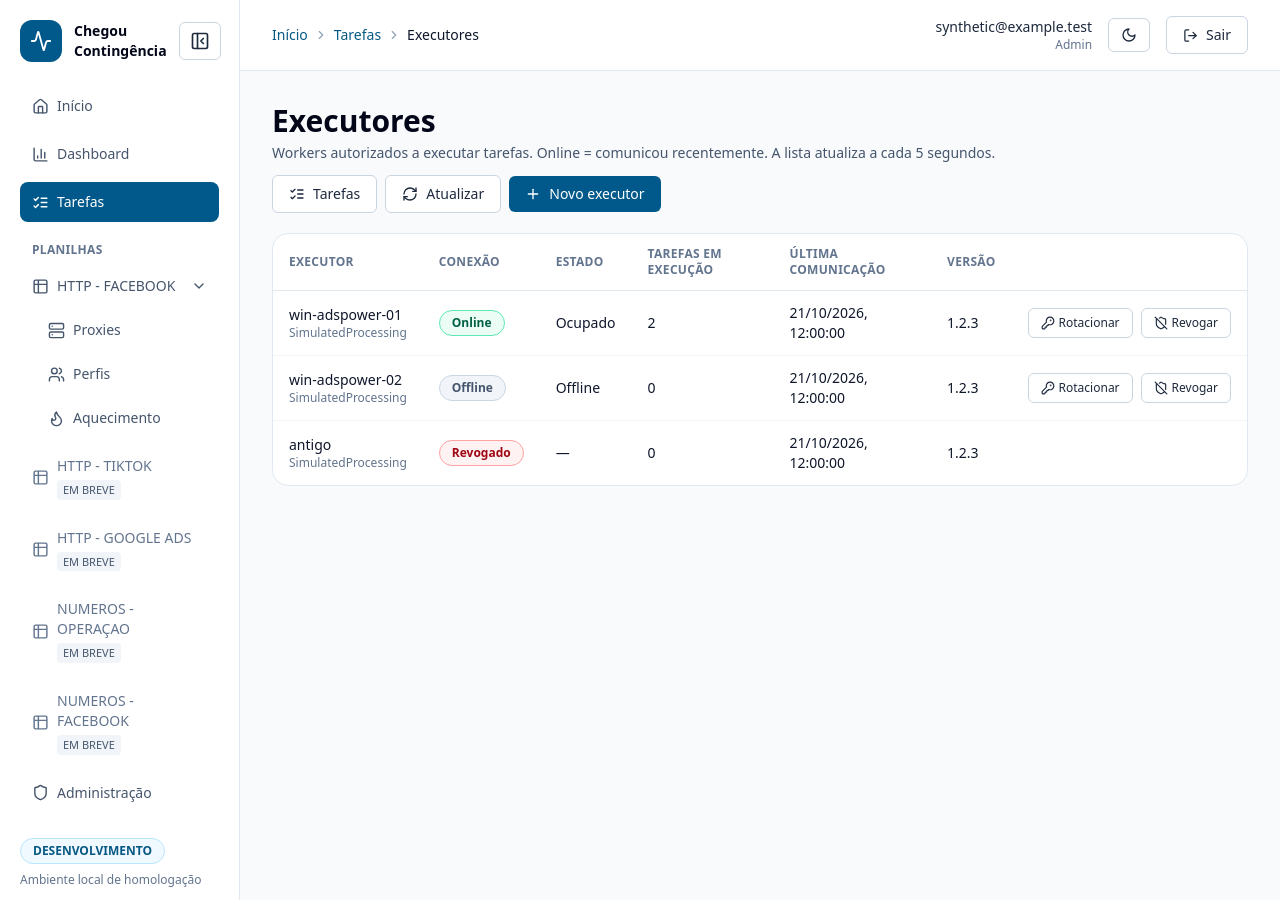
Test: revogar exige confirmação e rotacionar mostra a nova credencial
Expected: the table is shown, [273,234,1247,485]
Click the button with aria-label "Revogar win-adspower-01" at [1186, 323], box [1141,308,1231,338]
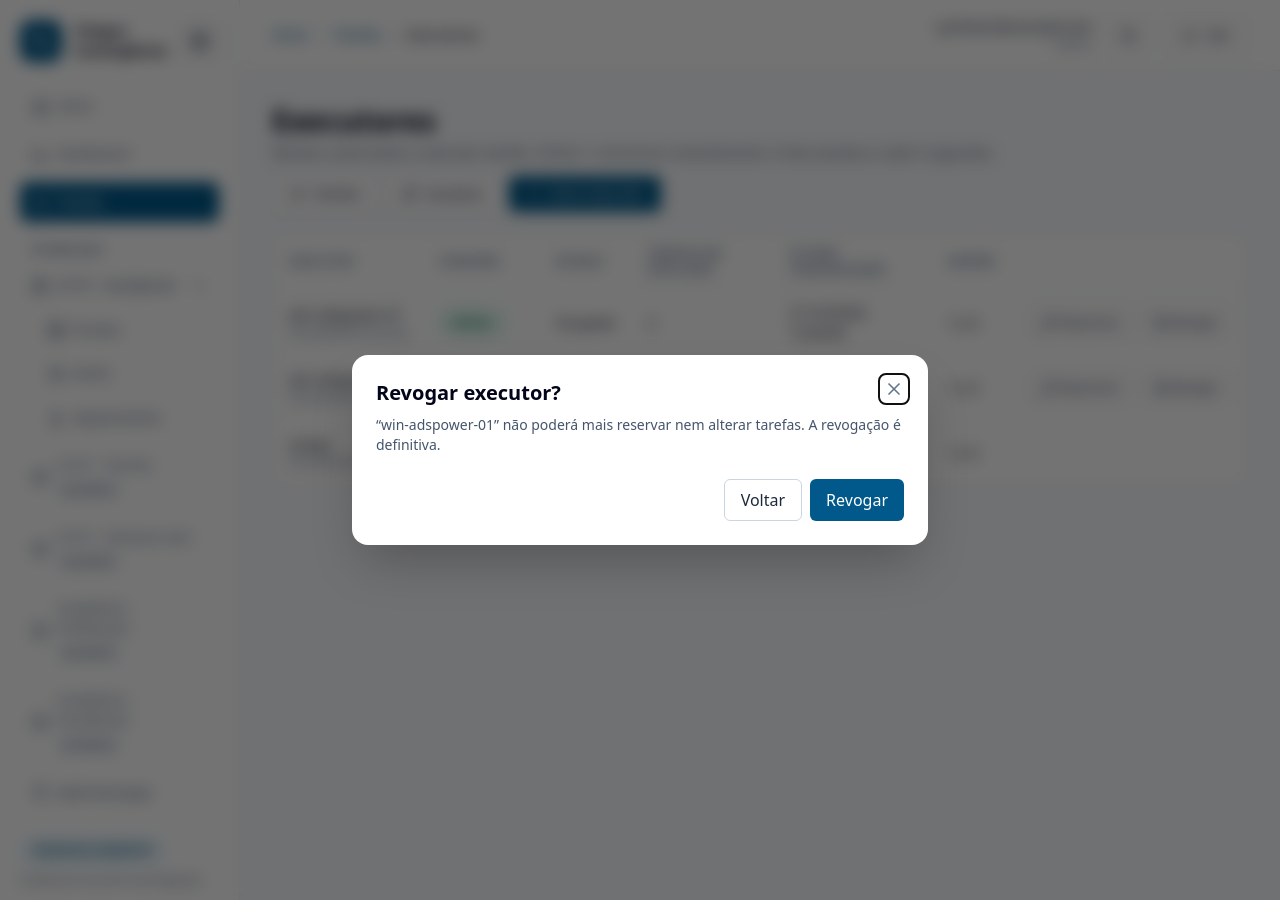
Now the dialog shows "definitiva", box [376,415,901,454]
Click the button "Revogar" at [857, 500], box [810,479,904,521]
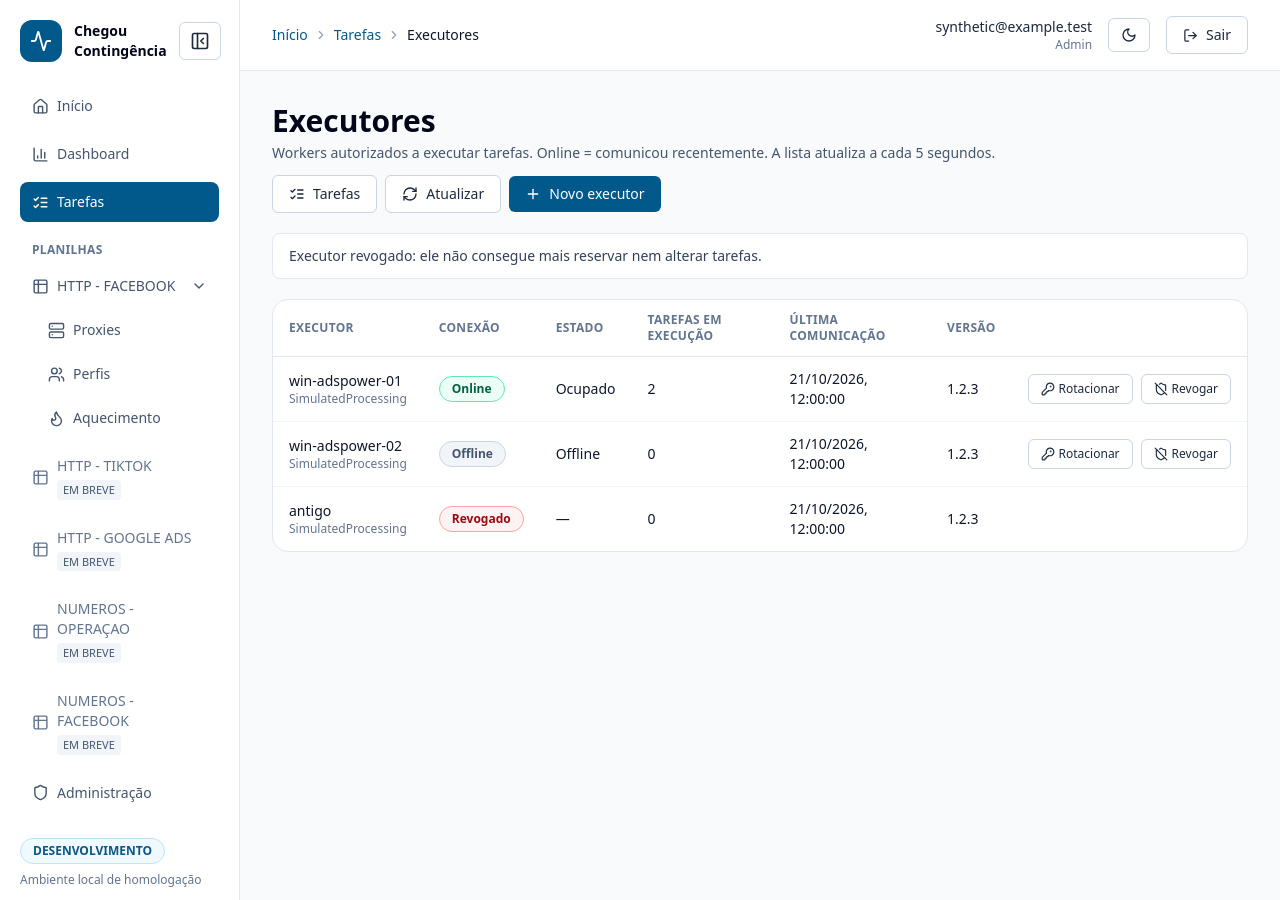
Now the message shows "Executor revogado", box [289,246,762,265]
Click the button with aria-label "Rotacionar credencial de win-adspower-01" at [1080, 389], box [1028,374,1133,404]
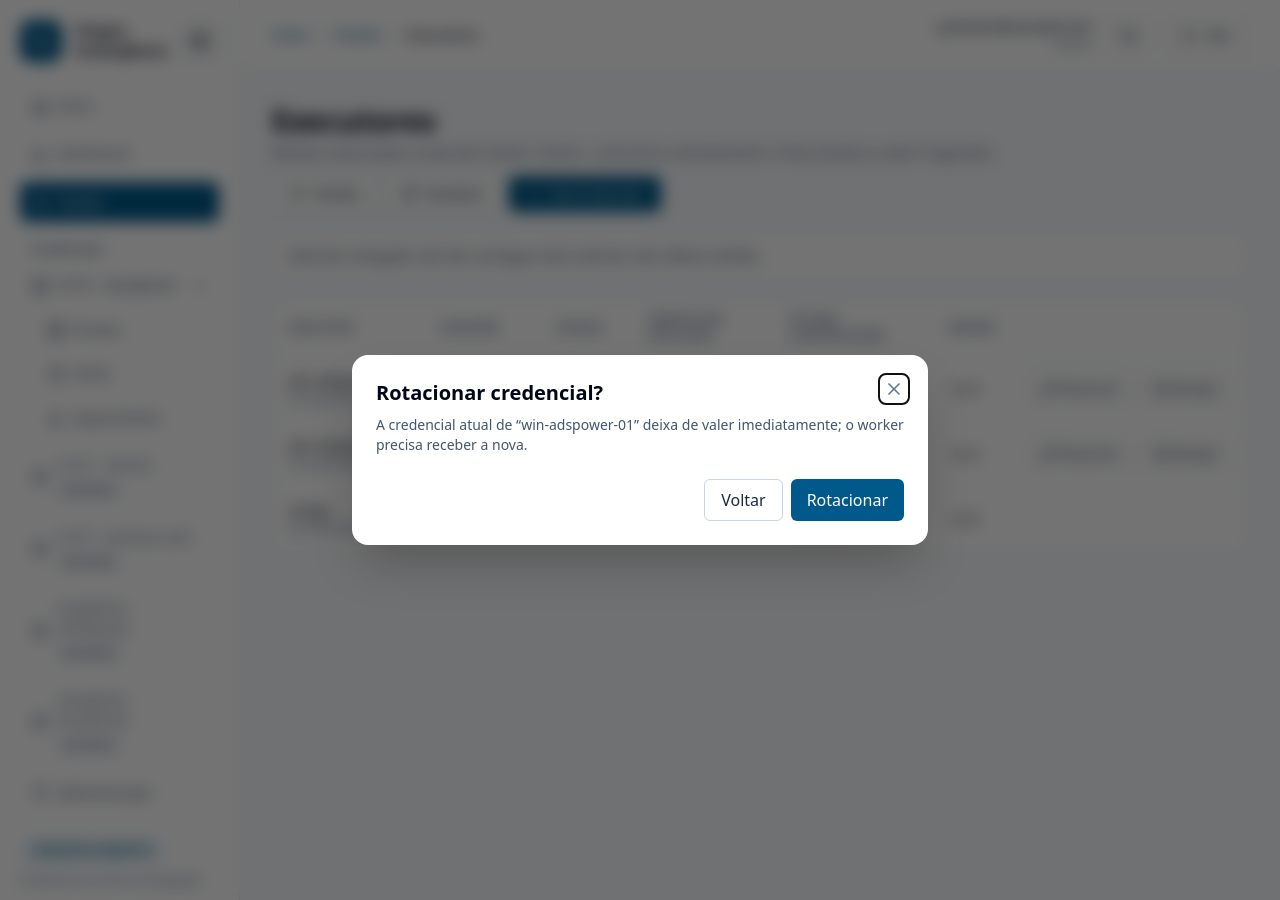
Click the button "Rotacionar" at [847, 500], box [791,479,904,521]
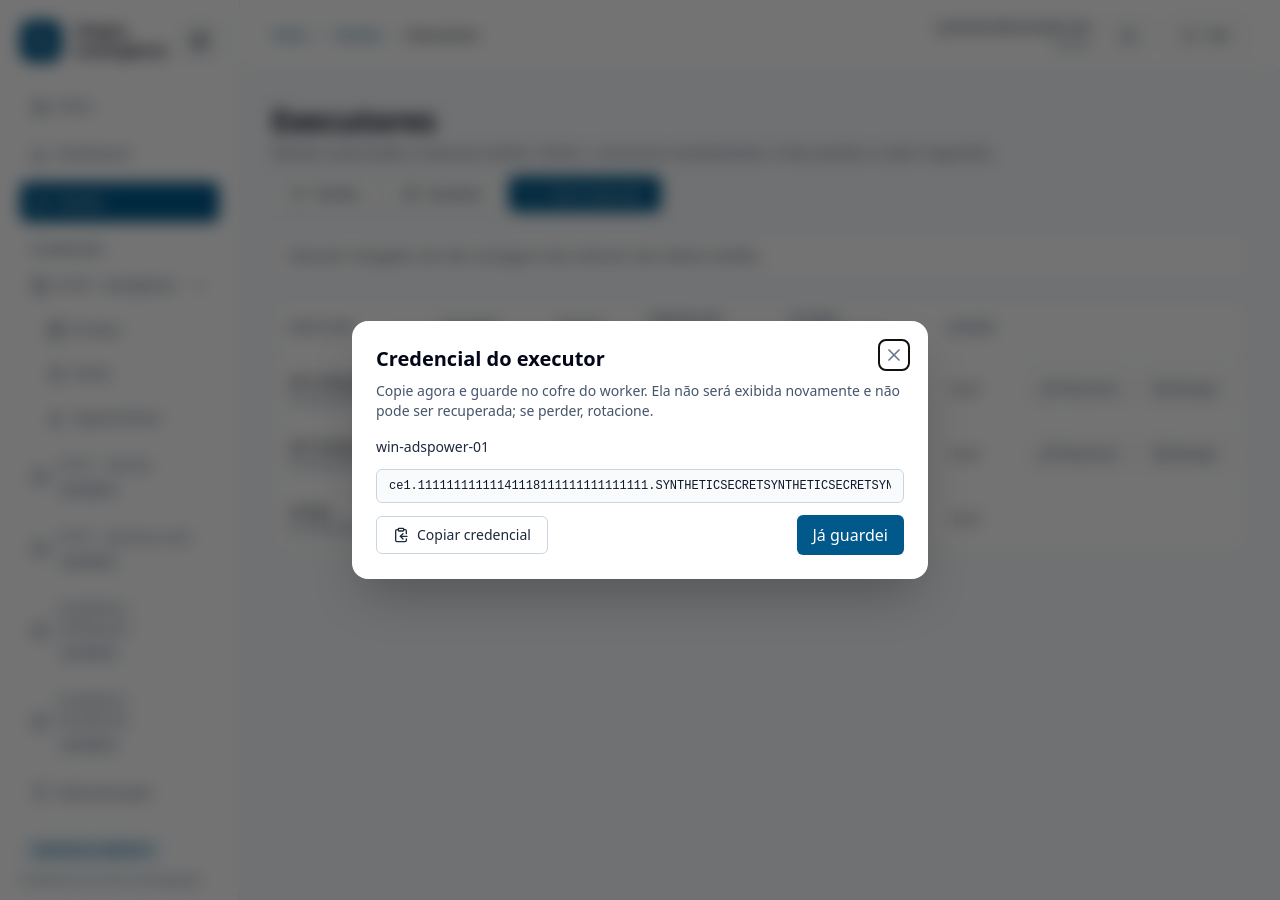
Now the field named "Credencial" holds "ce1.11111111111141118111111111111111.SYNTHETICSECRETSYNTHETICSECRETSYNTHETIC1", box [376,469,904,503]
